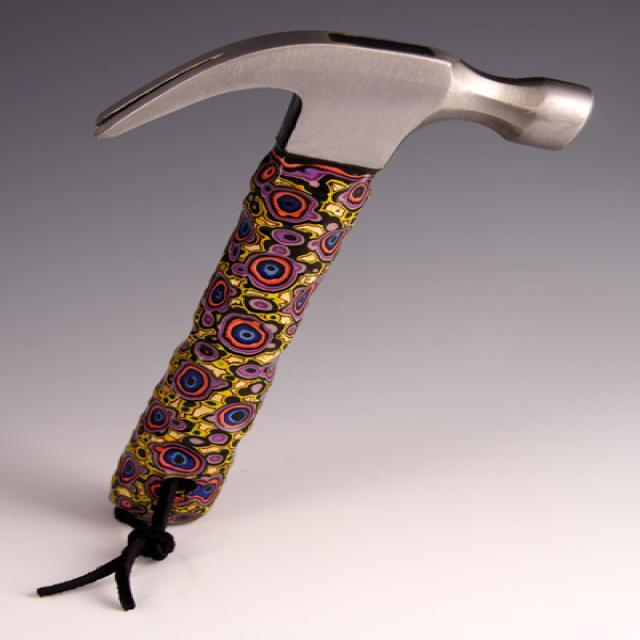hammer: (79, 21, 606, 536)
